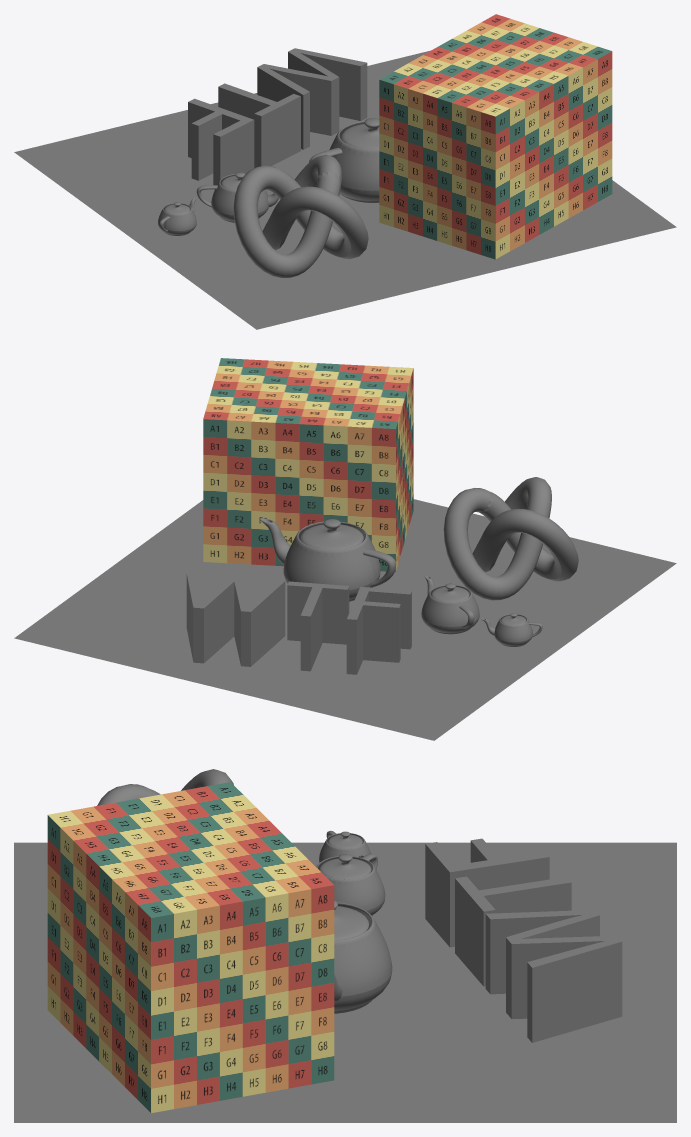
3 views of the same model, one above another, from view 1: azimuth 30°, elevation 25°; view 2: azimuth 150°, elevation 25°; view 3: azimuth 270°, elevation 25° (orthographic). The views are drawn at different scales.
Parts seen in each view (by area): view 1: box1, ground, text, torusknot, teapot1, teapo2, teapot3; view 2: ground, box1, text, torusknot, teapot1, teapo2, teapot3; view 3: ground, box1, text, teapot1, teapo2, torusknot, teapot3.
Boxes of the visible parts, x1,y1,x2,y2 form: box1: [379, 14, 612, 259]; ground: [14, 50, 676, 329]; text: [188, 48, 367, 189]; torusknot: [233, 154, 368, 277]; teapot1: [309, 118, 379, 202]; teapo2: [196, 172, 278, 222]; teapot3: [158, 197, 196, 235]; ground: [14, 499, 676, 740]; box1: [203, 358, 413, 571]; text: [186, 574, 411, 674]; torusknot: [443, 477, 578, 600]; teapot1: [259, 518, 396, 601]; teapo2: [421, 575, 479, 634]; teapot3: [480, 613, 542, 646]; ground: [14, 842, 676, 1122]; box1: [47, 782, 334, 1113]; text: [425, 838, 622, 1042]; teapot1: [334, 900, 392, 1013]; teapo2: [316, 853, 385, 915]; torusknot: [97, 769, 233, 805]; teapot3: [319, 830, 370, 862].
Bounding box in the file's own units: 40 × 40 × 13.04.
